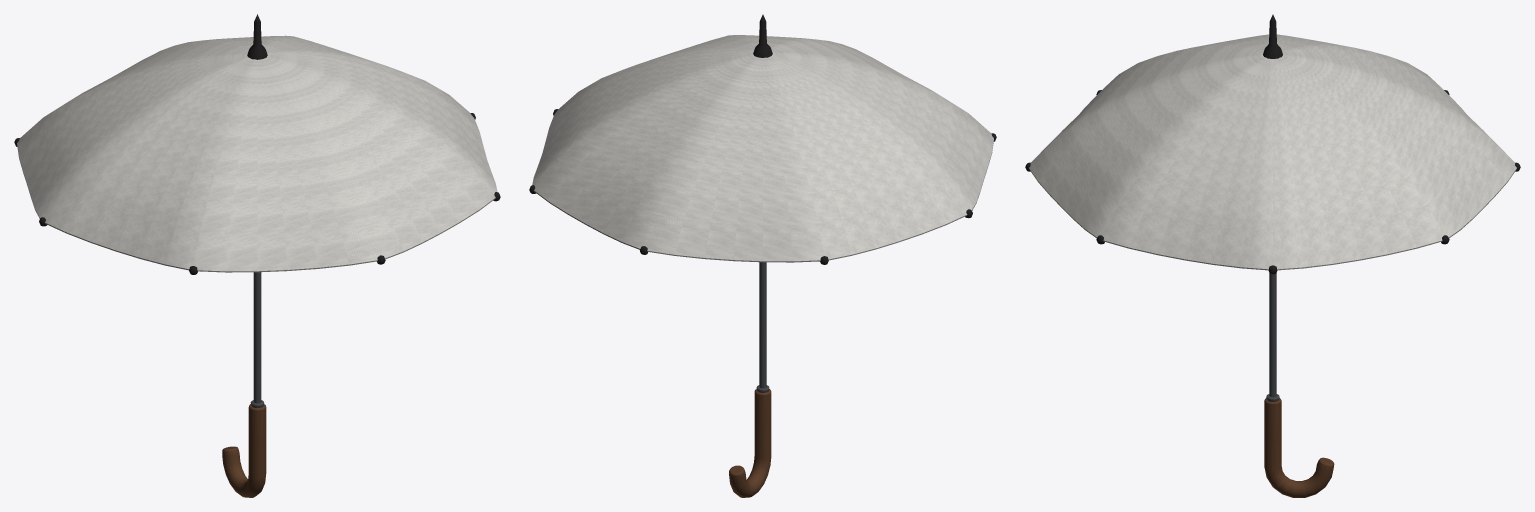
The model's file is Umbrella.fbx.
3 views of the same model, side by side, from view 1: azimuth 30°, elevation 25°; view 2: azimuth 150°, elevation 25°; view 3: azimuth 270°, elevation 25° (orthographic). The views are drawn at different scales.
Visible parts, largest first — view 1: Umbrella_Canopy, Umbrella_Handle, Umbrella_Frame; view 2: Umbrella_Canopy, Umbrella_Handle, Umbrella_Frame; view 3: Umbrella_Canopy, Umbrella_Handle, Umbrella_Frame.
Boxes of the visible parts, left/top/right/bottom form: Umbrella_Canopy: left=17, top=35, right=497, bottom=272; Umbrella_Handle: left=222, top=400, right=266, bottom=497; Umbrella_Frame: left=14, top=14, right=500, bottom=403; Umbrella_Canopy: left=532, top=35, right=993, bottom=262; Umbrella_Handle: left=729, top=385, right=771, bottom=497; Umbrella_Frame: left=529, top=14, right=996, bottom=388; Umbrella_Canopy: left=1029, top=34, right=1516, bottom=270; Umbrella_Handle: left=1264, top=394, right=1334, bottom=497; Umbrella_Frame: left=1025, top=14, right=1520, bottom=397.
Size of the model in its own units: 170 by 183 by 170.
1 material, 1 textured.
